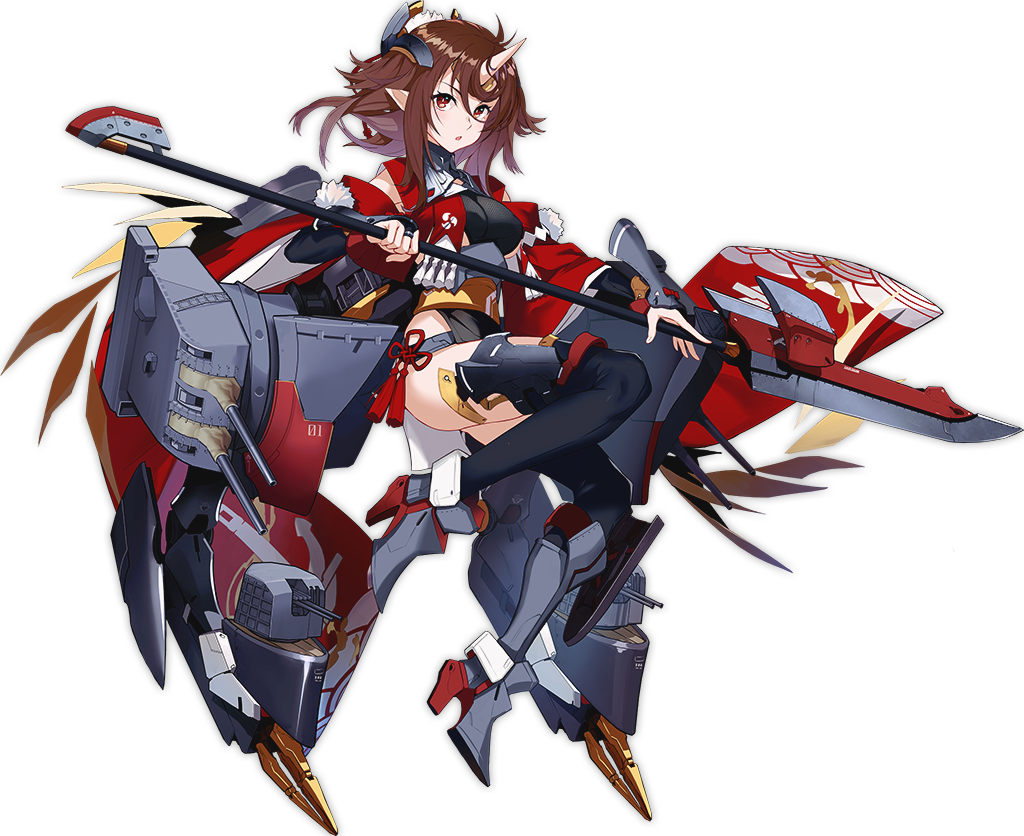person: (151, 12, 735, 790)
